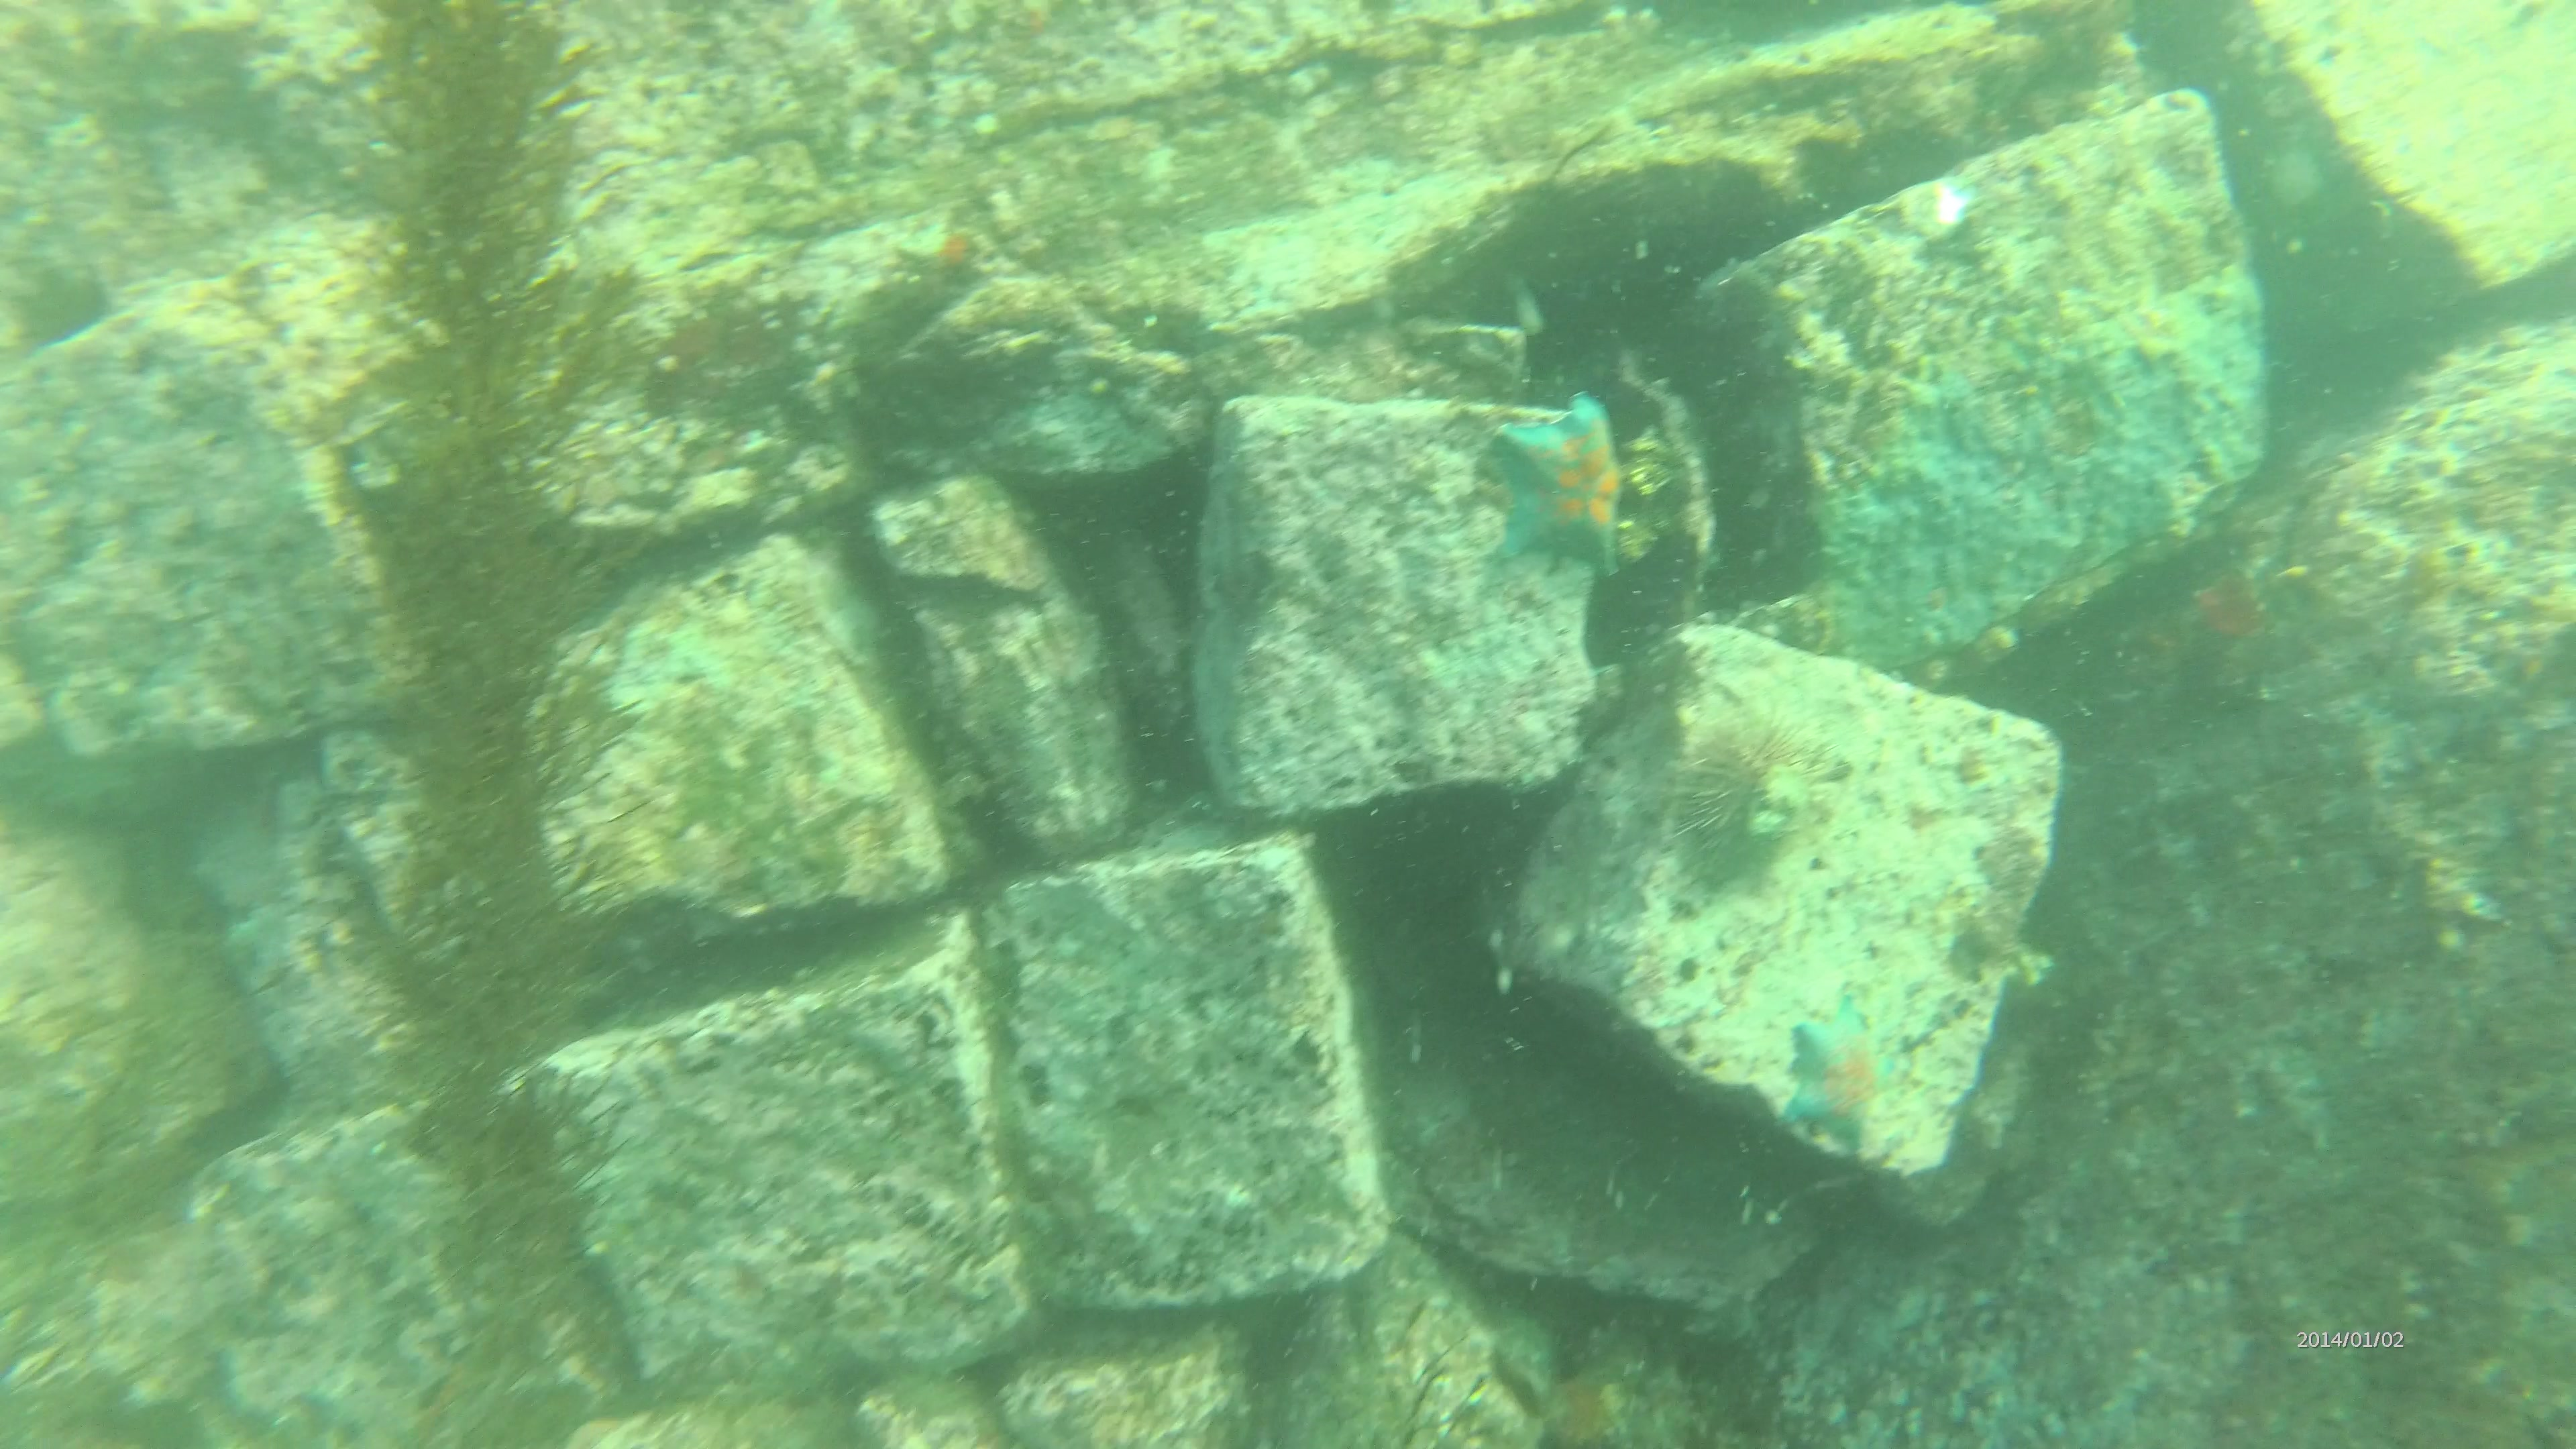echinus: (1665, 711, 1824, 867)
starfish: (1481, 395, 1640, 580), (1780, 1000, 1909, 1150), (899, 221, 984, 285)
